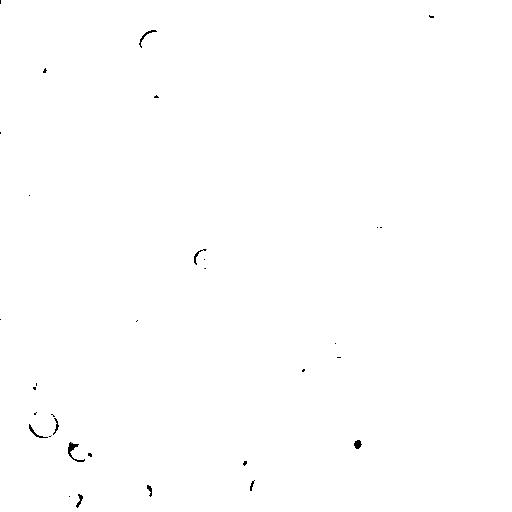micro-algae: (315, 255, 394, 336), (0, 115, 50, 178), (259, 25, 302, 63), (56, 422, 90, 465), (186, 57, 221, 97), (340, 422, 375, 462), (285, 351, 316, 391), (337, 149, 376, 180), (25, 408, 64, 439), (61, 35, 97, 67), (189, 369, 222, 402), (277, 57, 309, 87), (392, 236, 425, 265), (164, 95, 197, 123), (223, 447, 257, 474), (404, 276, 438, 303), (417, 0, 449, 28), (238, 121, 266, 153), (389, 275, 421, 303), (11, 141, 39, 171), (381, 398, 411, 426), (71, 127, 95, 161), (199, 119, 228, 146), (87, 43, 113, 71), (139, 27, 165, 55), (331, 102, 364, 124), (89, 71, 119, 95), (483, 13, 508, 41), (248, 473, 272, 501), (90, 469, 115, 495), (405, 306, 432, 330), (33, 57, 57, 81), (193, 247, 217, 271), (173, 281, 195, 305), (132, 482, 155, 504), (63, 489, 86, 510), (66, 441, 90, 461), (329, 339, 353, 359), (83, 442, 105, 463), (367, 224, 389, 245), (379, 327, 399, 350), (123, 305, 144, 325), (185, 496, 211, 512), (23, 183, 43, 203), (21, 374, 40, 395), (29, 0, 47, 11)
